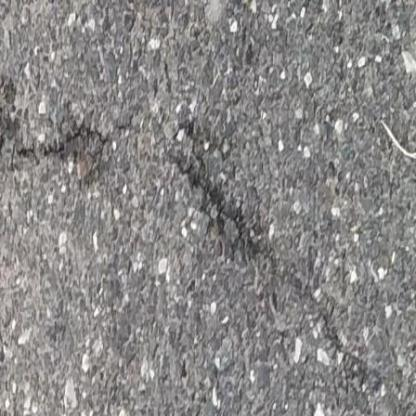Cracks: (151, 107, 413, 410), (0, 74, 164, 185)
